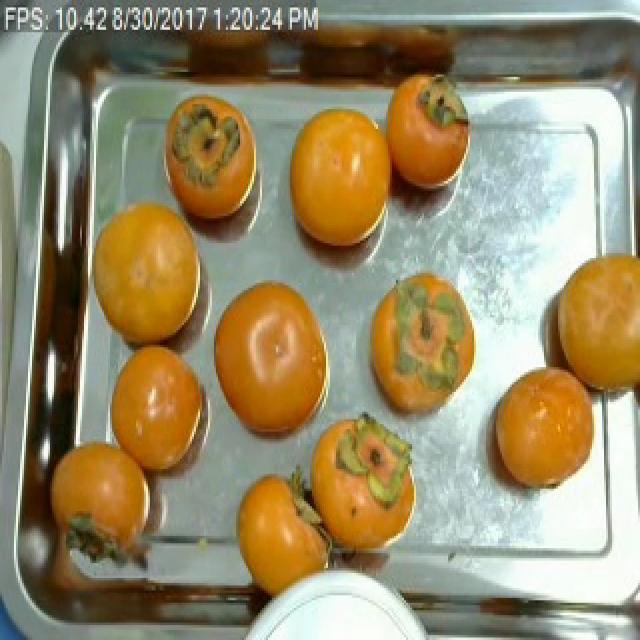Fruit: (206, 266, 342, 467), (292, 397, 430, 580), (360, 260, 490, 432), (98, 332, 228, 501), (276, 94, 400, 268), (88, 183, 204, 360), (50, 420, 166, 586), (474, 352, 600, 504), (538, 243, 640, 419), (220, 461, 342, 608), (152, 87, 268, 236), (374, 69, 476, 206)
